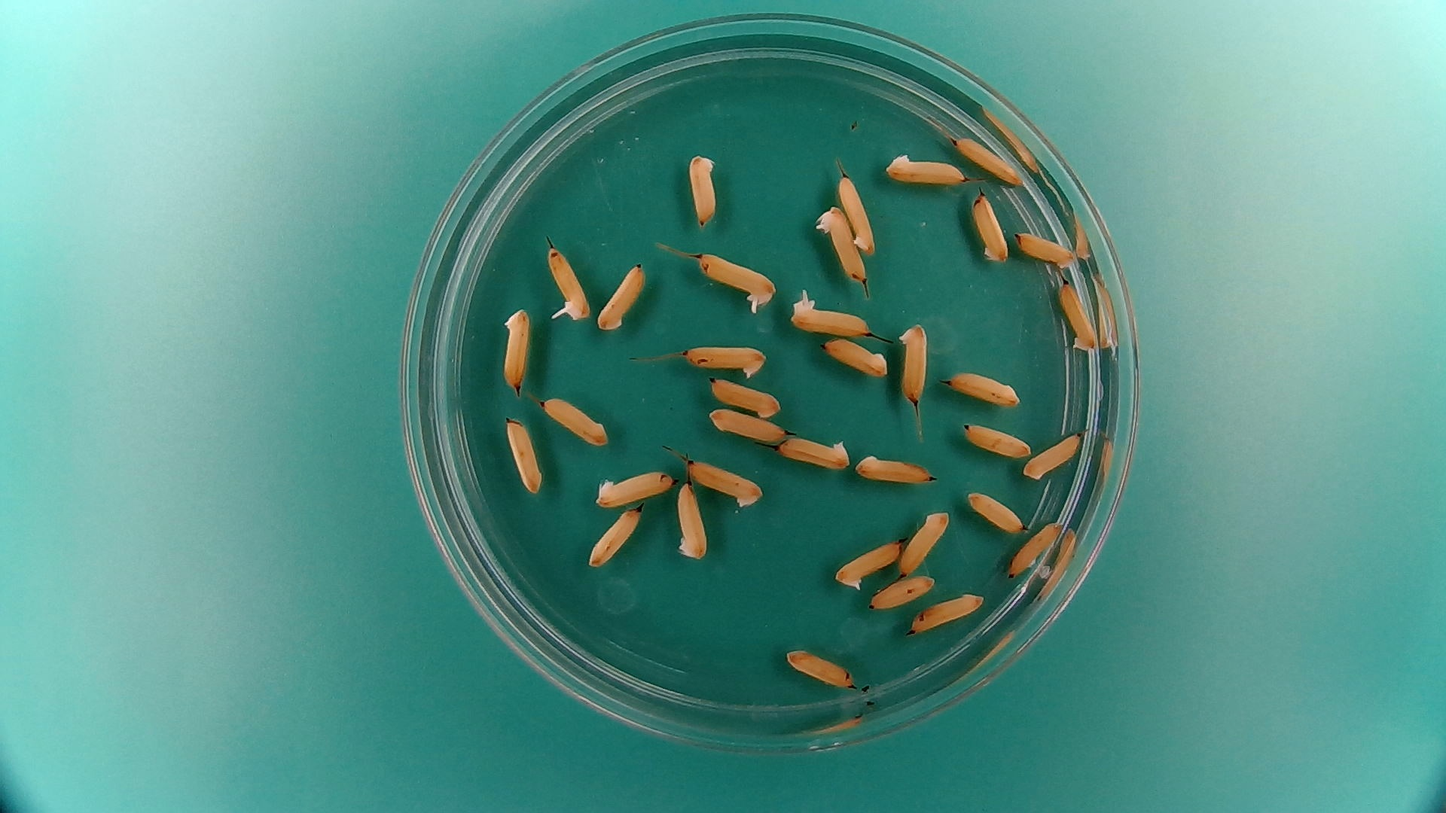no: (682, 455, 765, 509), (596, 258, 649, 335), (953, 132, 1026, 187), (585, 504, 644, 571), (538, 394, 609, 448), (898, 506, 951, 577), (592, 464, 678, 507), (836, 172, 879, 257), (502, 412, 545, 495), (678, 340, 769, 379), (781, 644, 858, 690), (969, 187, 1012, 267), (1005, 518, 1063, 577), (850, 449, 940, 487), (1055, 279, 1100, 355), (773, 431, 853, 473), (943, 367, 1023, 409), (706, 376, 784, 418), (911, 593, 987, 636), (819, 335, 891, 380), (1023, 429, 1084, 482), (882, 150, 969, 187), (499, 303, 533, 394), (685, 145, 721, 230), (896, 318, 930, 406), (707, 405, 786, 442), (963, 489, 1027, 534), (674, 480, 709, 562), (865, 571, 939, 609), (959, 422, 1033, 460), (1011, 227, 1078, 268)
yes: (692, 247, 780, 312), (831, 535, 905, 592), (816, 203, 867, 285), (786, 291, 873, 337), (545, 242, 591, 326)
